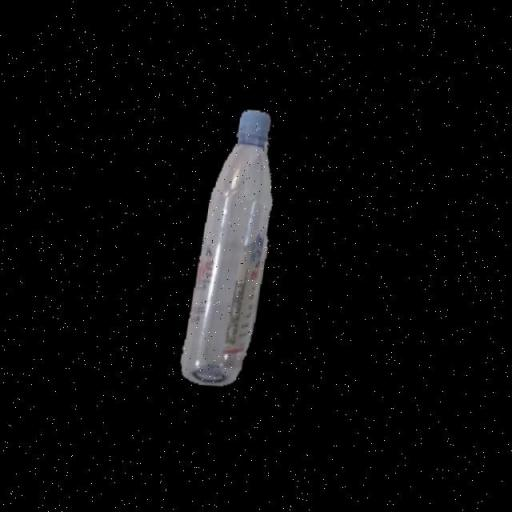plastic: (177, 104, 290, 392)
